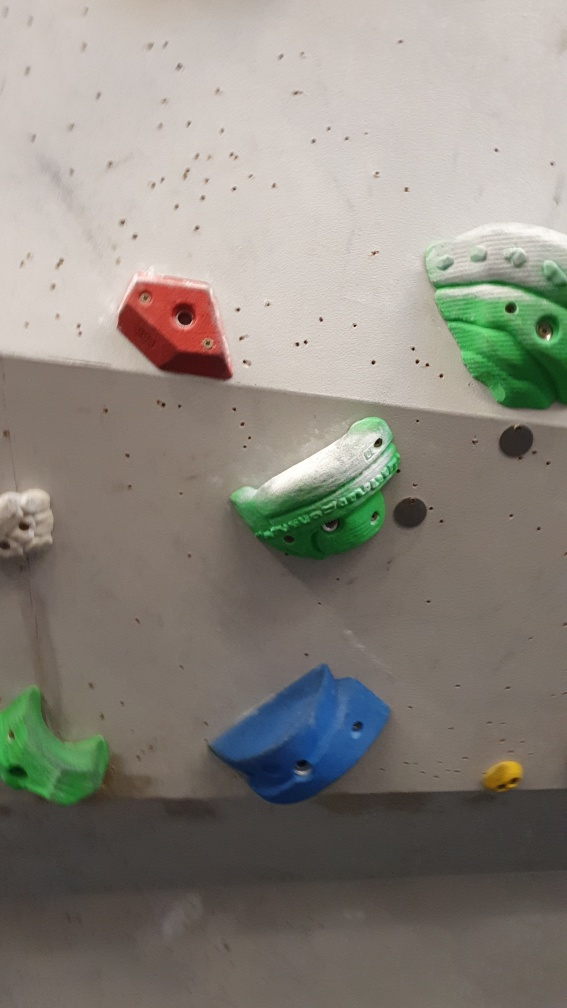Crimp: (114, 267, 235, 382)
Hand Start: (388, 492, 435, 534), (499, 420, 537, 463)
Jug: (420, 217, 567, 410), (227, 416, 405, 562), (1, 684, 117, 807)
Pinch: (204, 660, 396, 804)
